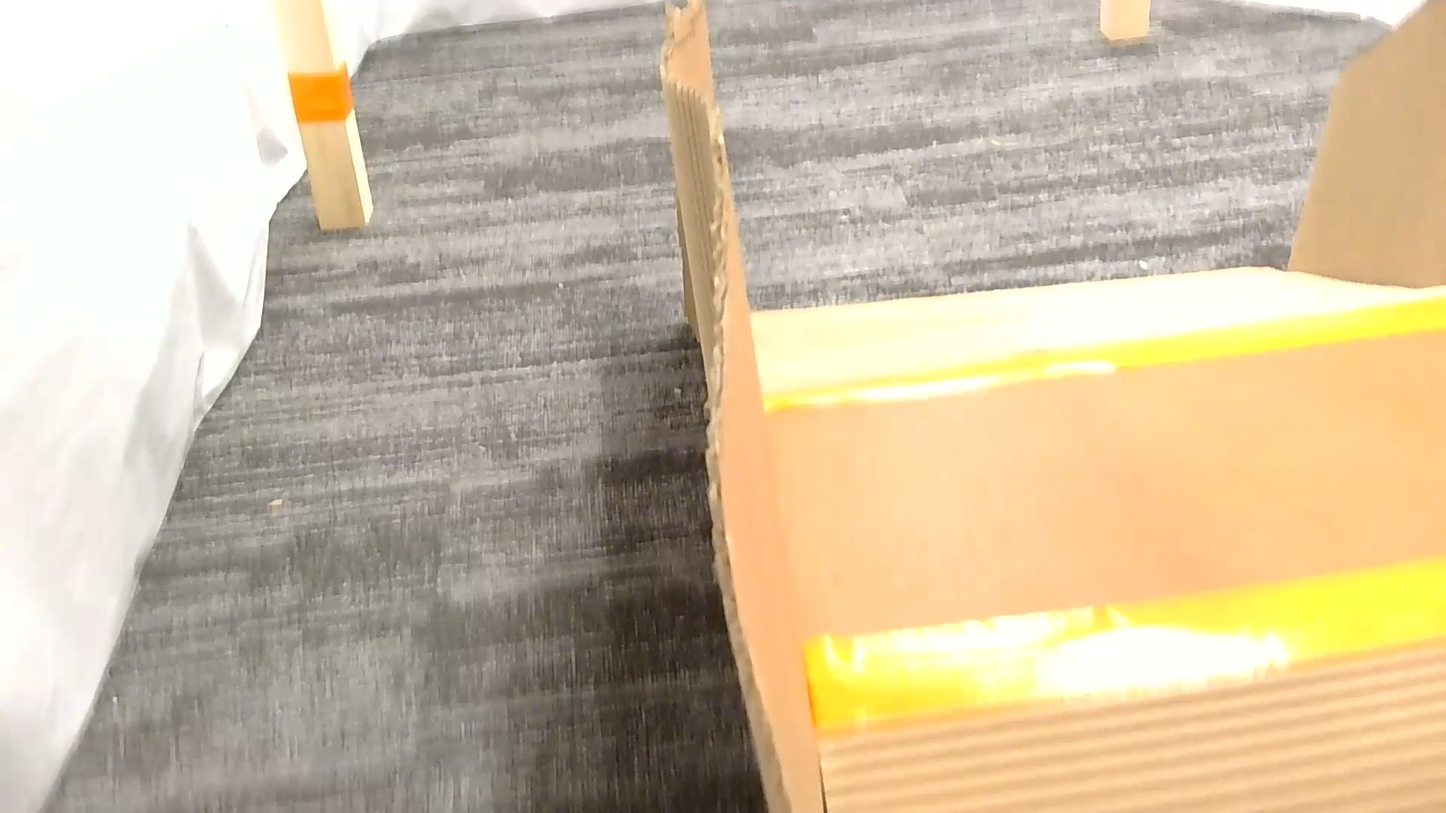Ramp: (660, 0, 1445, 812)
Wooden Block: (270, 0, 371, 230), (1100, 0, 1151, 43)
